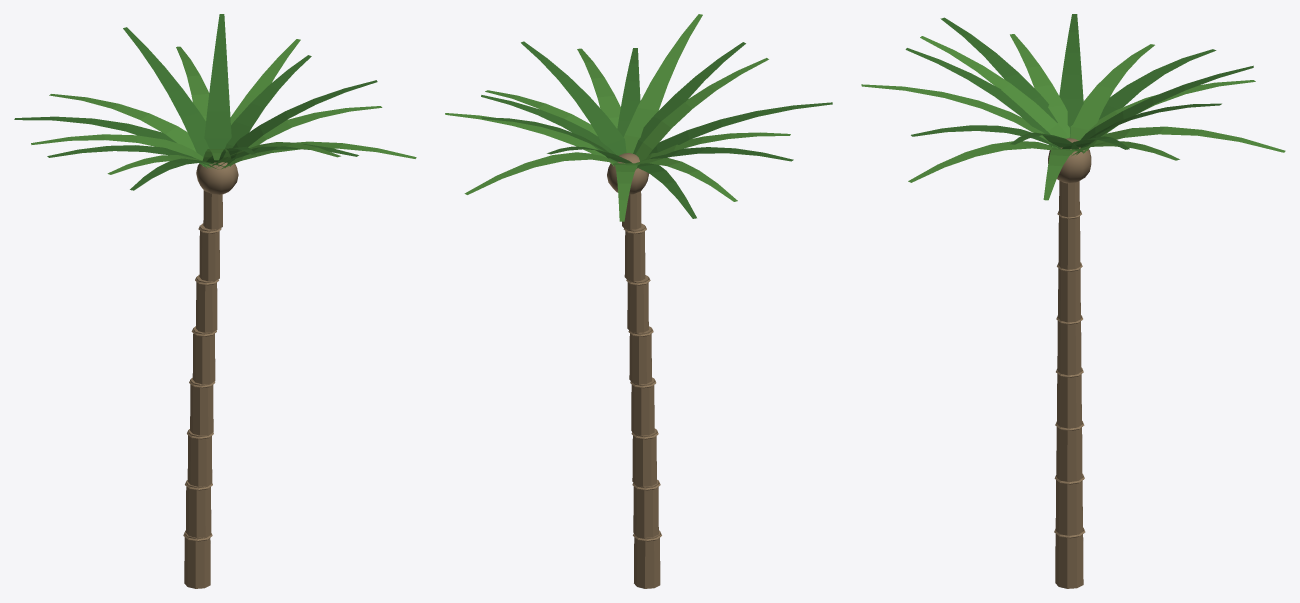
The model's file is palm_b.glb.
3 renders of one model, left to right at view 1: azimuth 30°, elevation 25°; view 2: azimuth 150°, elevation 25°; view 3: azimuth 270°, elevation 25°, orthographic. The views are drawn at different scales.
Parts seen in each view (by area): view 1: palm; view 2: palm; view 3: palm.
Boxes of the visible parts, <box> form: palm: <box>14,14,416,588</box>; palm: <box>445,14,832,588</box>; palm: <box>861,14,1285,588</box>.
Size of the model in its own units: 8.66 by 12.76 by 9.31.
